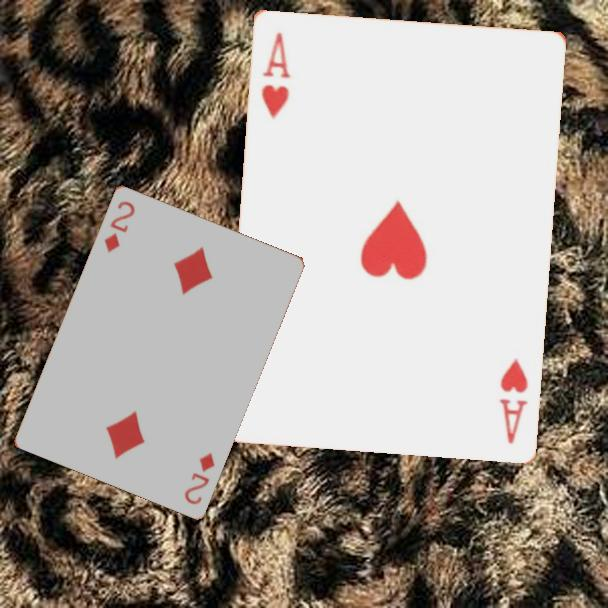d02: (100, 197, 138, 255), (181, 449, 218, 507)
h01: (257, 28, 293, 121), (495, 354, 531, 446)
